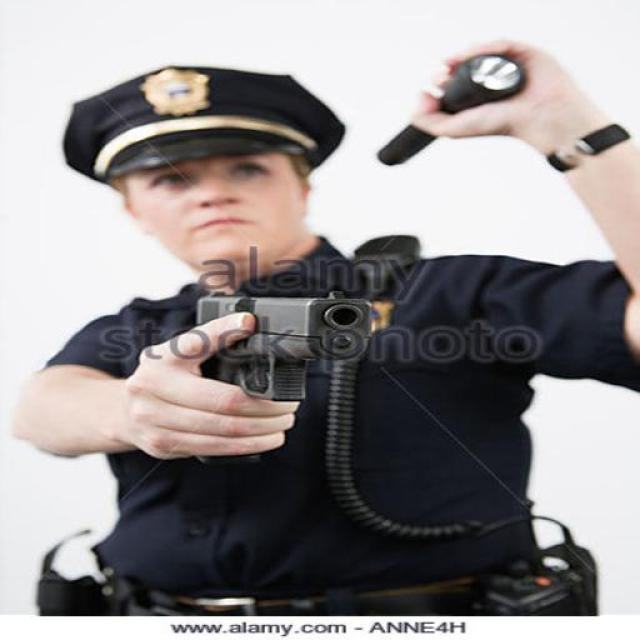pistol: (187, 286, 375, 466)
